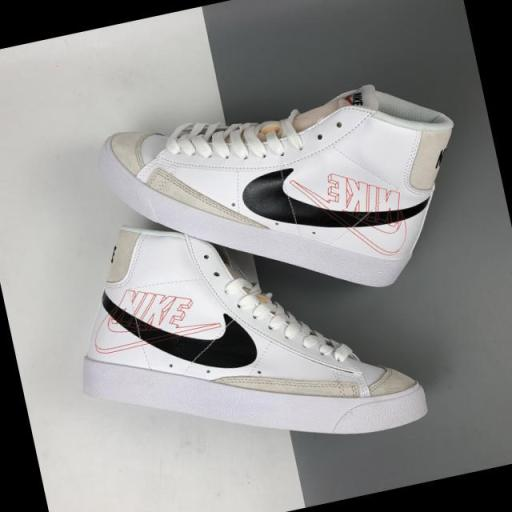Nike: (235, 136, 437, 250)
